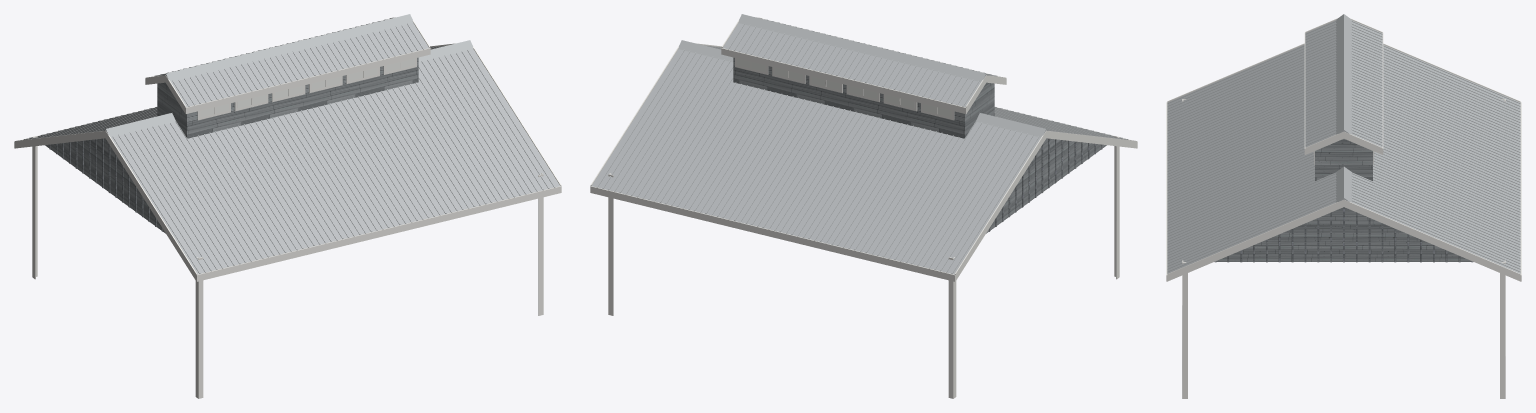
Rendered from m_roof.glb.
The picture shows the model from 3 angles, left to right: view 1: azimuth 30°, elevation 25°; view 2: azimuth 150°, elevation 25°; view 3: azimuth 270°, elevation 25°; orthographic projection. The views are drawn at different scales.
Parts seen in each view (by area): view 1: m_roof_roofm, m_roof_trim, m_roof_siding, m_roof_batten, m_roof_glass; view 2: m_roof_roofm, m_roof_trim, m_roof_siding, m_roof_batten, m_roof_glass; view 3: m_roof_roofm, m_roof_siding, m_roof_trim, m_roof_batten.
Boxes of the visible parts, x1=… form: m_roof_roofm: x1=18, y1=14, x2=559, y2=274; m_roof_trim: x1=14, y1=17, x2=561, y2=398; m_roof_siding: x1=45, y1=57, x2=418, y2=233; m_roof_batten: x1=49, y1=138, x2=162, y2=231; m_roof_glass: x1=201, y1=59, x2=414, y2=116; m_roof_roofm: x1=592, y1=14, x2=1133, y2=274; m_roof_trim: x1=590, y1=17, x2=1137, y2=398; m_roof_siding: x1=733, y1=57, x2=1106, y2=233; m_roof_batten: x1=989, y1=138, x2=1102, y2=231; m_roof_glass: x1=737, y1=59, x2=950, y2=116; m_roof_roofm: x1=1167, y1=14, x2=1520, y2=273; m_roof_siding: x1=1216, y1=139, x2=1471, y2=261; m_roof_trim: x1=1166, y1=18, x2=1521, y2=398; m_roof_batten: x1=1215, y1=207, x2=1472, y2=262.
Size of the model in its own units: 12.76 by 8.43 by 11.06.
Materials: 7 (4 with a texture image).
